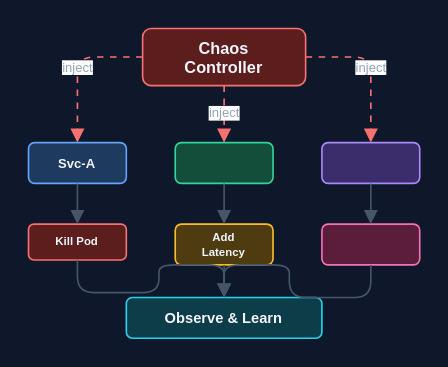
This 448x367 diagram has some shape labels left out. The shapes that lost their labels are listed below. From the top down, each one's centre as x and y in pixels, then its label:
At pixel 223 162: "Svc-B".
At pixel 370 162: "Svc-C".
At pixel 370 243: "Network Partition".
